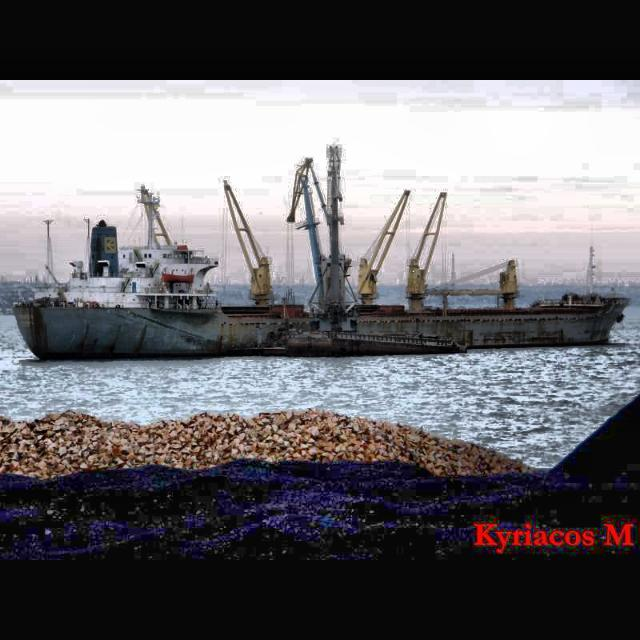bulk_carrier: (12, 175, 630, 363)
